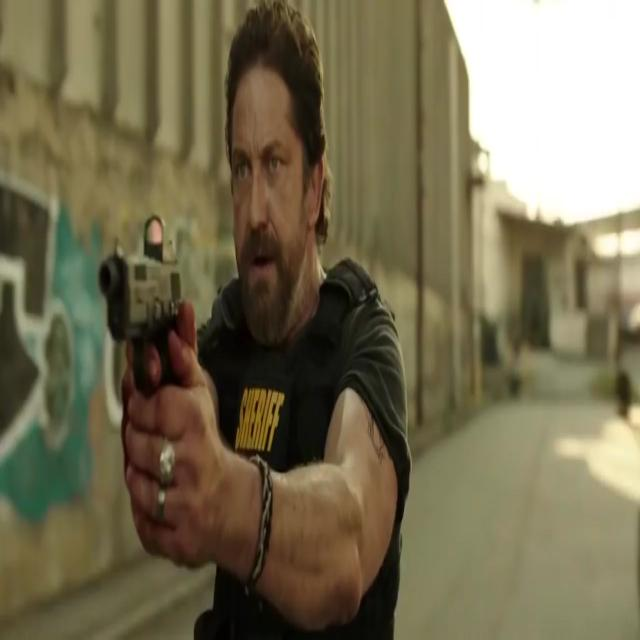Weapon: (81, 222, 186, 394)
